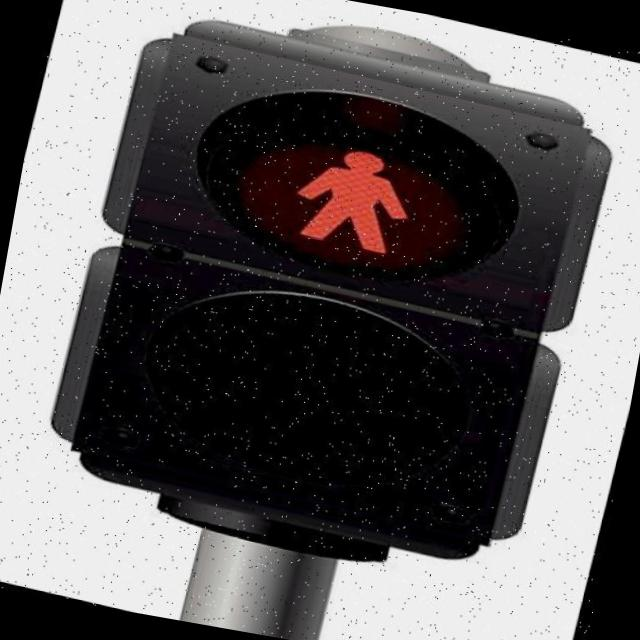red_light: (250, 119, 454, 278)
